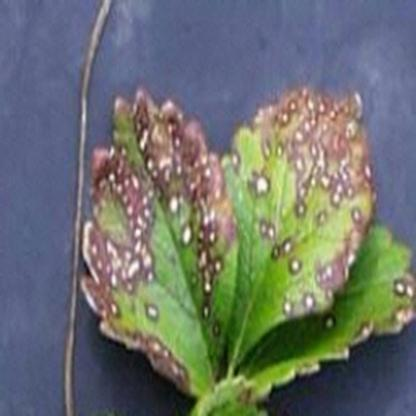Strawberry_Leaf_Spot: (76, 82, 239, 401), (218, 82, 379, 372), (234, 224, 415, 406)
